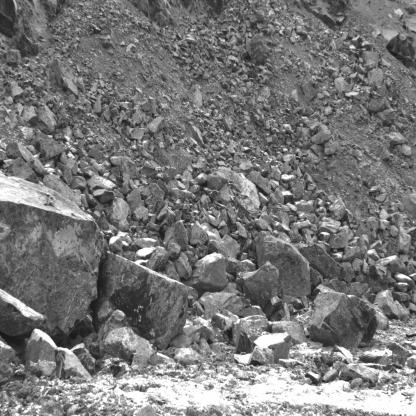stone: (0, 169, 109, 337), (99, 248, 192, 353), (308, 291, 379, 348), (257, 231, 312, 298), (98, 312, 157, 371), (0, 287, 44, 339), (236, 265, 281, 313), (298, 242, 348, 280), (188, 252, 227, 297), (55, 347, 92, 382), (235, 318, 272, 353), (48, 58, 78, 98), (24, 328, 58, 363), (206, 229, 243, 259), (271, 320, 308, 345), (32, 132, 64, 160), (70, 343, 96, 376), (104, 198, 129, 231), (33, 104, 58, 135), (375, 254, 408, 276), (164, 221, 189, 250), (111, 156, 140, 178), (368, 264, 389, 293), (225, 257, 257, 276), (248, 171, 271, 197), (147, 246, 169, 272), (87, 175, 117, 194), (248, 347, 275, 366), (175, 252, 193, 280), (190, 221, 209, 245), (328, 196, 346, 221), (145, 194, 165, 215), (328, 228, 348, 249), (374, 287, 394, 308), (55, 161, 72, 185), (207, 172, 229, 190), (397, 227, 411, 254), (394, 272, 415, 290), (305, 112, 322, 134), (127, 189, 142, 213), (147, 116, 166, 134), (361, 51, 379, 70), (22, 104, 38, 125), (134, 247, 156, 262), (366, 68, 383, 87), (342, 246, 362, 262), (311, 129, 331, 145), (237, 158, 254, 176), (333, 77, 352, 93), (167, 239, 181, 260), (134, 237, 158, 249), (301, 82, 316, 101), (133, 206, 149, 223), (70, 175, 88, 190), (366, 217, 380, 235), (297, 126, 312, 142), (324, 139, 339, 155), (194, 173, 208, 185), (108, 167, 120, 180), (310, 144, 324, 155)
